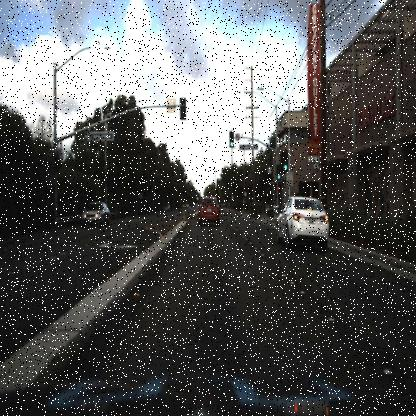car: (276, 191, 329, 254), (192, 193, 223, 229), (78, 199, 112, 229)
trafficLight-Green: (226, 132, 236, 152), (282, 158, 288, 174), (276, 172, 281, 183)
